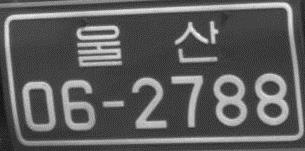-: (96, 98, 130, 110)
0: (20, 79, 60, 132)
2: (130, 75, 170, 131)
6: (58, 78, 96, 132)
7: (168, 72, 205, 129)
8: (211, 72, 251, 128), (252, 71, 289, 126)
울산_D: (75, 16, 220, 71)
